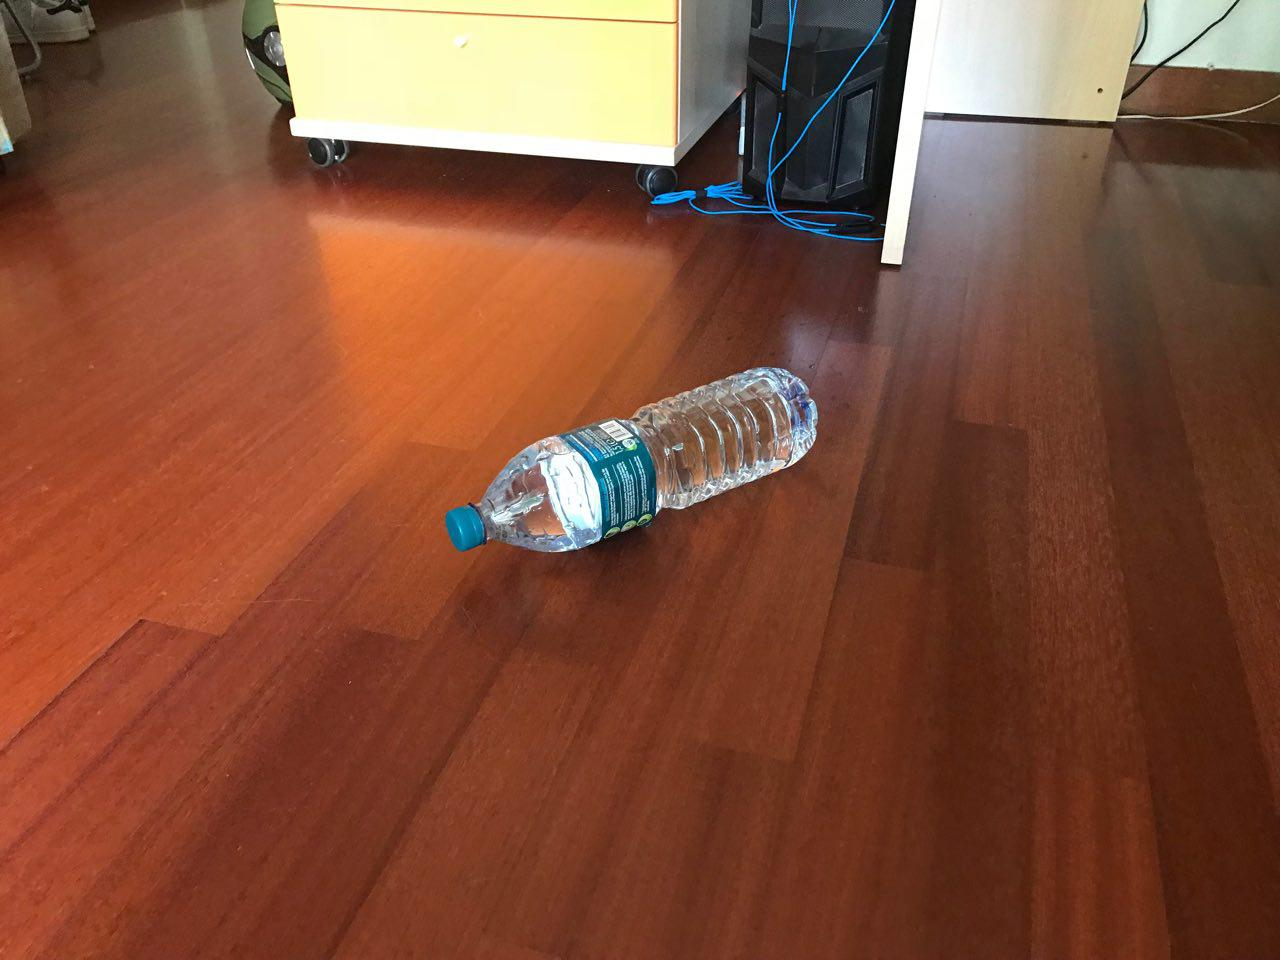san_bernardo: (443, 363, 818, 556)
